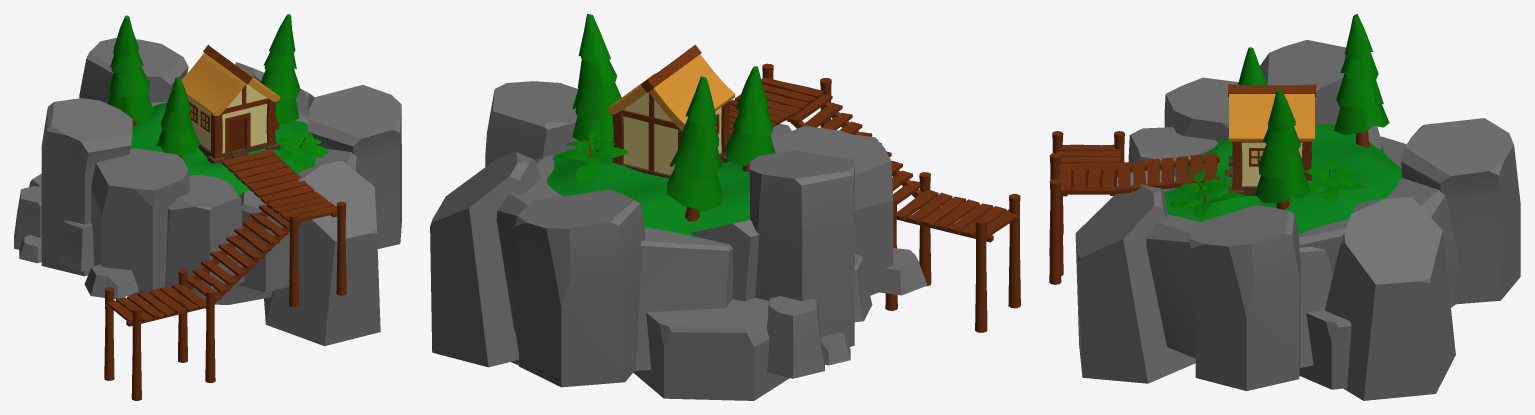
Rendered from Zone2_LonersBay.fbx.
The picture shows the model from 3 angles, left to right: view 1: azimuth 30°, elevation 25°; view 2: azimuth 150°, elevation 25°; view 3: azimuth 270°, elevation 25°; orthographic projection. The views are drawn at different scales.
Parts seen in each view (by area): view 1: rock_large_44, rock_medium_78, rock_large_42, house_1lvl1, rock_large_43, pDisc1, pine_tree_9, dock8, stairs6, pine_tree_8, rock5057, dock10 (+7 smaller); view 2: rock_large_43, rock_large_42, rock_medium_78, house_1lvl1, pDisc1, rock_large_44, pine_tree_9, pine_tree_8, dock10, pine_tree_10, dock_support13, stairs6 (+5 smaller); view 3: rock_large_44, rock_large_43, pDisc1, house_1lvl1, rock_medium_78, rock_large_42, pine_tree_9, pine_tree_8, dock8, dock9, dock_support12, foliage_42 (+4 smaller).
Boxes of the visible parts, x1,y1,x2,y2 form: rock_large_44: [159, 85, 401, 346]; rock_medium_78: [57, 148, 244, 299]; rock_large_42: [14, 98, 149, 295]; house_1lvl1: [181, 45, 280, 163]; rock_large_43: [29, 38, 314, 186]; pDisc1: [130, 102, 316, 196]; pine_tree_9: [107, 15, 153, 125]; dock8: [221, 149, 314, 203]; stairs6: [210, 204, 289, 280]; pine_tree_8: [260, 14, 300, 129]; rock5057: [236, 187, 291, 292]; dock10: [105, 284, 207, 326]; rock_large_43: [430, 152, 789, 400]; rock_large_42: [691, 150, 854, 378]; rock_medium_78: [771, 126, 927, 322]; house_1lvl1: [607, 44, 735, 178]; pDisc1: [547, 150, 749, 237]; rock_large_44: [485, 81, 578, 365]; pine_tree_9: [666, 76, 722, 221]; pine_tree_8: [572, 14, 621, 151]; dock10: [895, 190, 1019, 242]; pine_tree_10: [723, 66, 775, 171]; dock_support13: [975, 194, 1020, 332]; stairs6: [787, 95, 891, 157]; rock_large_44: [1075, 183, 1351, 390]; rock_large_43: [1298, 118, 1520, 400]; pDisc1: [1163, 124, 1402, 234]; house_1lvl1: [1225, 84, 1316, 195]; rock_medium_78: [1128, 77, 1238, 174]; rock_large_42: [1260, 40, 1381, 149]; pine_tree_9: [1334, 14, 1389, 147]; pine_tree_8: [1255, 89, 1310, 209]; dock8: [1116, 153, 1219, 193]; dock9: [1057, 163, 1116, 194]; dock_support12: [1049, 153, 1061, 284]; foliage_42: [1169, 171, 1244, 218].
Bounding box in the file's own units: 4489 × 3130 × 4592.
